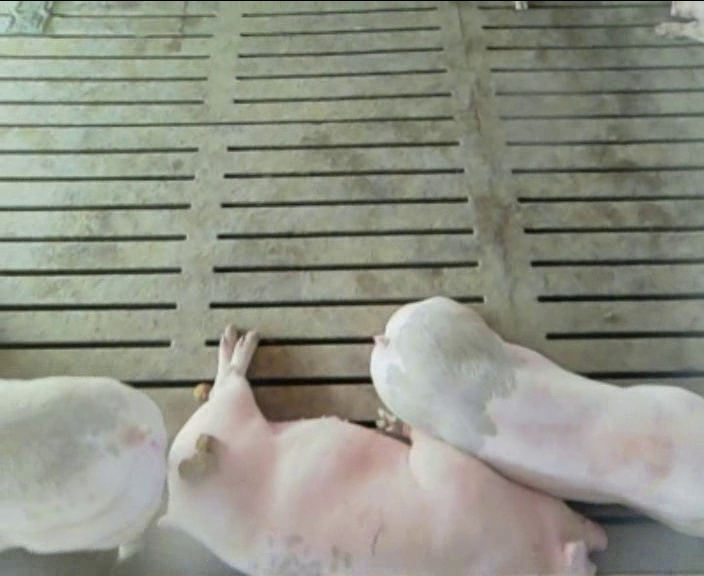pig: (160, 328, 605, 574), (371, 297, 703, 536)
